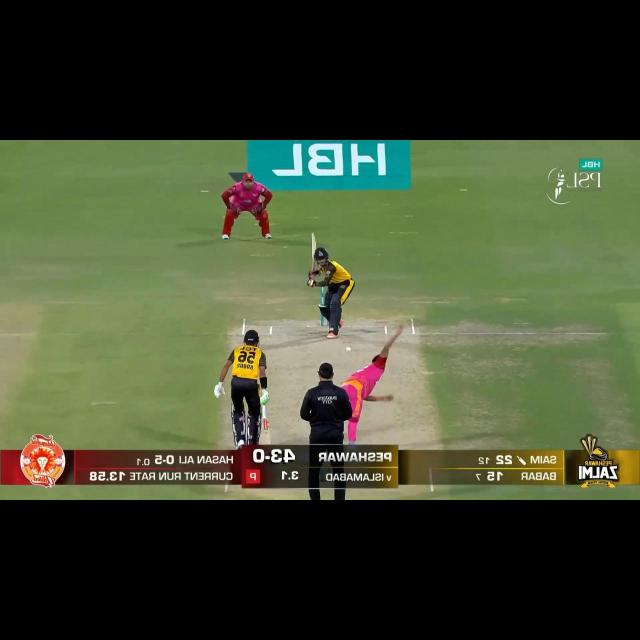bat: (309, 232, 318, 272), (261, 418, 272, 445)
toe: (308, 231, 318, 244)
